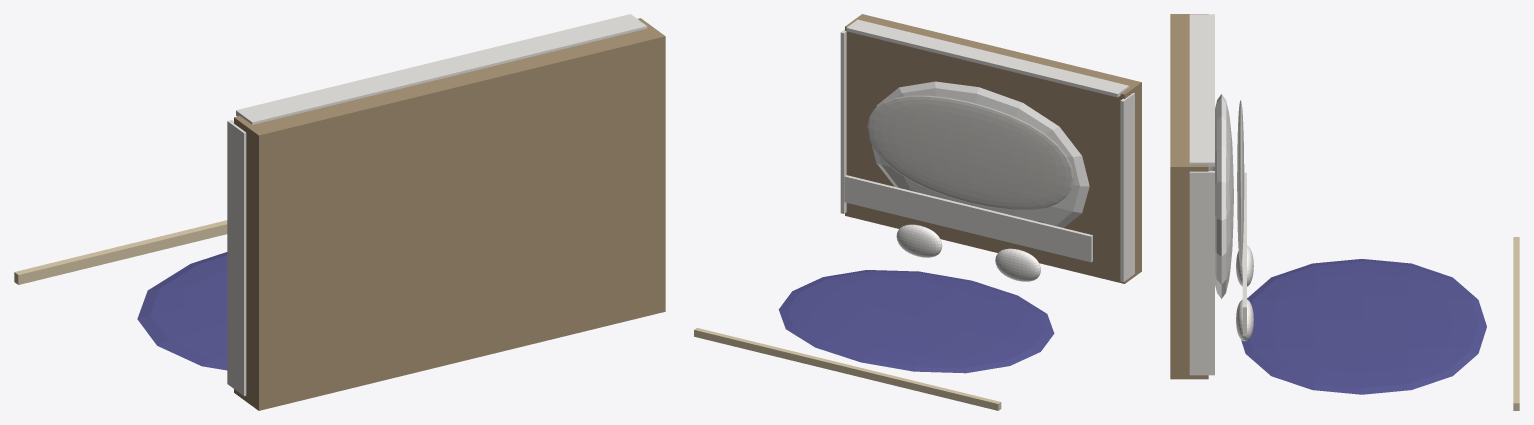
The model's file is bed.glb.
The picture shows the model from 3 angles, left to right: view 1: azimuth 30°, elevation 25°; view 2: azimuth 150°, elevation 25°; view 3: azimuth 270°, elevation 25°; orthographic projection. The views are drawn at different scales.
Parts seen in each view (by area): view 1: Bed; view 2: Bed; view 3: Bed.
Part boxes in pixels (x1,y1,x2,y2): Bed: (14,14,665,410); Bed: (694,14,1141,410); Bed: (1170,14,1519,410).
Size of the model in its own units: 3.7 by 2.52 by 3.28.
